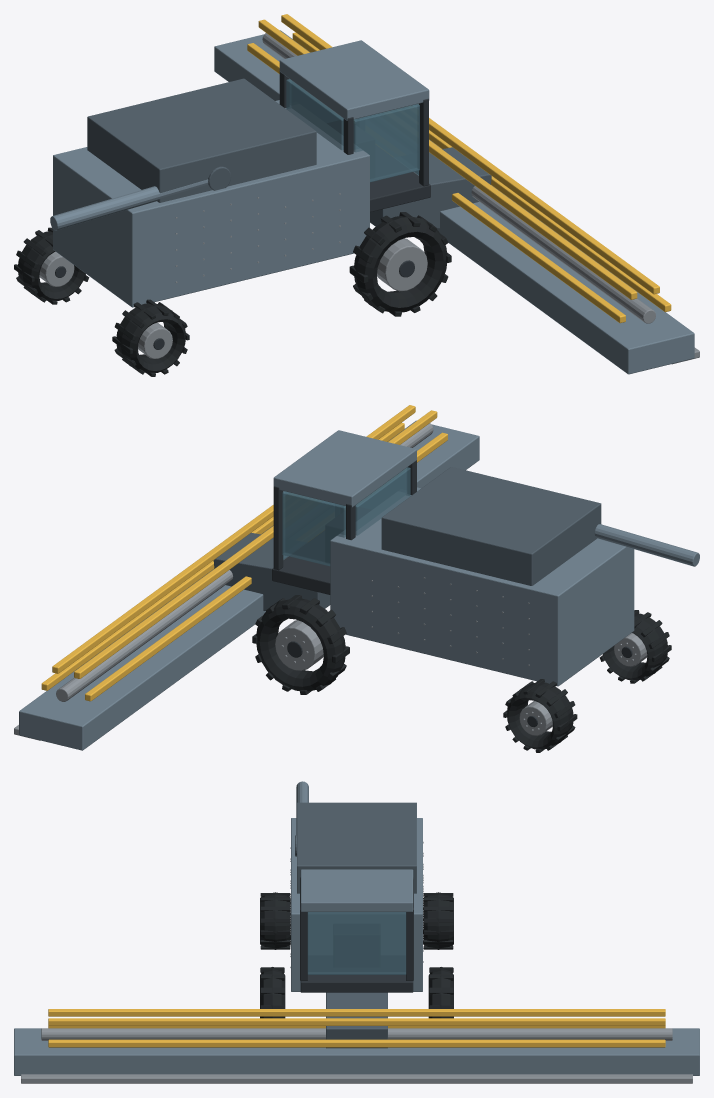
File: john-deere-x9-1100-structural-study.glb
3 renders of one model, top to bottom at view 1: azimuth 30°, elevation 25°; view 2: azimuth 150°, elevation 25°; view 3: azimuth 270°, elevation 25°, orthographic. The views are drawn at different scales.
Visible parts, largest first — view 1: Separator_Main_House, Grain_Tank, Header_Backbone, Cab_Roof, Front_R_Tire, Cab_R_Glass, Reel_Bat_2, Reel_Bat_3, Feederhouse, Reel_Axle, Reel_Bat_4, Rear_R_Tire (+10 smaller); view 2: Separator_Main_House, Grain_Tank, Header_Backbone, Cab_Roof, Front_L_Tire, Cab_L_Glass, Reel_Bat_2, Reel_Bat_3, Feederhouse, Reel_Axle, Reel_Bat_4, Rear_L_Tire (+10 smaller); view 3: Header_Backbone, Grain_Tank, Reel_Axle, Cutterbar, Cab_Front_Glass, Reel_Bat_1, Separator_Main_House, Reel_Bat_2, Reel_Bat_3, Cab_Roof, Cab_Floor, Feederhouse (+8 smaller).
Part boxes in pixels (left/top/right/bottom): Separator_Main_House: left=53, top=100, right=369, bottom=307; Grain_Tank: left=87, top=78, right=316, bottom=202; Header_Backbone: left=214, top=30, right=694, bottom=374; Cab_Roof: left=279, top=40, right=429, bottom=120; Front_R_Tire: left=354, top=216, right=447, bottom=312; Cab_R_Glass: left=353, top=104, right=419, bottom=182; Reel_Bat_2: left=281, top=14, right=659, bottom=294; Reel_Bat_3: left=258, top=19, right=637, bottom=299; Feederhouse: left=370, top=147, right=491, bottom=228; Reel_Axle: left=262, top=33, right=655, bottom=323; Reel_Bat_4: left=247, top=43, right=625, bottom=323; Rear_R_Tire: left=116, top=303, right=185, bottom=373; Separator_Main_House: left=330, top=487, right=634, bottom=686; Grain_Tank: left=381, top=467, right=601, bottom=585; Header_Backbone: left=19, top=420, right=479, bottom=750; Cab_Roof: left=273, top=430, right=416, bottom=507; Front_L_Tire: left=256, top=598, right=345, bottom=691; Cab_L_Glass: left=282, top=491, right=345, bottom=566; Reel_Bat_2: left=52, top=405, right=415, bottom=673; Reel_Bat_3: left=74, top=410, right=437, bottom=678; Feederhouse: left=213, top=532, right=330, bottom=610; Reel_Axle: left=56, top=423, right=433, bottom=701; Reel_Bat_4: left=85, top=432, right=447, bottom=701; Rear_L_Tire: left=507, top=682, right=573, bottom=749; Header_Backbone: left=14, top=1028, right=699, bottom=1075; Grain_Tank: left=297, top=802, right=416, bottom=893; Reel_Axle: left=41, top=1028, right=672, bottom=1040; Cutterbar: left=21, top=1074, right=692, bottom=1083; Cab_Front_Glass: left=307, top=912, right=406, bottom=974; Reel_Bat_1: left=48, top=1039, right=665, bottom=1047; Separator_Main_House: left=291, top=818, right=422, bottom=991; Reel_Bat_2: left=48, top=1018, right=665, bottom=1025; Reel_Bat_3: left=48, top=1009, right=665, bottom=1016; Cab_Roof: left=300, top=869, right=413, bottom=911; Cab_Floor: left=300, top=956, right=413, bottom=992; Feederhouse: left=326, top=992, right=387, bottom=1048.
Bounding box in the file's own units: 10.1 × 4 × 15.2.
